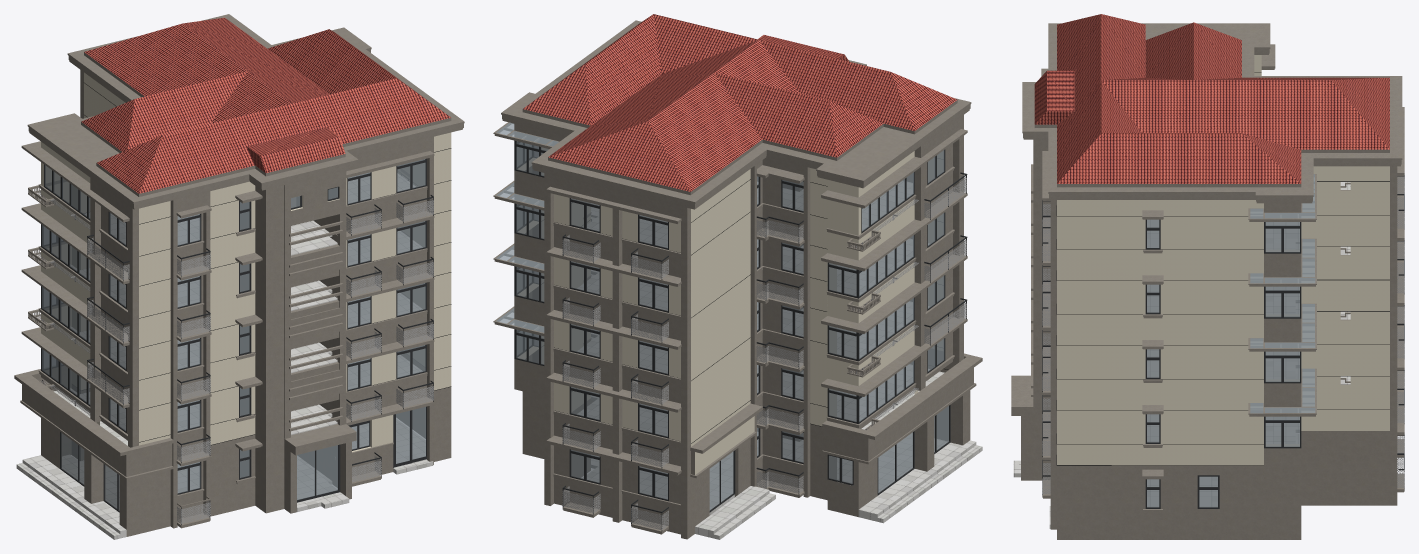
Rendered from gzl_naokeyiyuan.FBX.
The picture shows the model from 3 angles, left to right: view 1: azimuth 30°, elevation 25°; view 2: azimuth 150°, elevation 25°; view 3: azimuth 270°, elevation 25°; orthographic projection. The views are drawn at different scales.
Visible parts, largest first — view 1: gzl_naokeyiyuan, Group8_001, Group8_014, Group8_016, Group8_002, Group8_007, Group8_018, Group8_017, Line003, Line004, Line005, Line006 (+6 smaller); view 2: gzl_naokeyiyuan, Group8_001, Group8_014, Group8_016, Group8_002, Group8_007, Group8_018, Group8_017, Line003, Line004, Line006, Line005 (+7 smaller); view 3: Group8_014, gzl_naokeyiyuan, Group8_001, Group8_016, Group8_002, Group8_007, Group8_012, Group8_010, Group8_018, Line002, Group8_011, Line005 (+4 smaller).
Part boxes in pixels (box(x1,y1,x2,y2)): gzl_naokeyiyuan: box(14, 14, 464, 536); Group8_001: box(81, 17, 450, 193); Group8_014: box(41, 72, 451, 452); Group8_016: box(42, 159, 425, 510); Group8_002: box(21, 141, 434, 528); Group8_007: box(87, 198, 433, 523); Group8_018: box(41, 158, 426, 512); Group8_017: box(16, 455, 433, 539); Line003: box(62, 419, 426, 509); Line004: box(53, 355, 421, 445); Line005: box(70, 293, 421, 373); Line006: box(70, 231, 421, 311); gzl_naokeyiyuan: box(497, 20, 982, 539); Group8_001: box(523, 14, 957, 191); Group8_014: box(518, 148, 943, 474); Group8_016: box(516, 141, 948, 510); Group8_002: box(546, 129, 967, 534); Group8_007: box(562, 176, 966, 530); Group8_018: box(514, 140, 950, 512); Group8_017: box(695, 440, 982, 539); Line003: box(583, 432, 947, 515); Line004: box(577, 337, 944, 435); Line006: box(577, 217, 929, 310); Line005: box(577, 274, 929, 373); Group8_014: box(1057, 55, 1389, 465); gzl_naokeyiyuan: box(1011, 23, 1404, 539); Group8_001: box(1034, 14, 1389, 183); Group8_016: box(1147, 219, 1299, 507); Group8_002: box(1041, 44, 1404, 498); Group8_007: box(1042, 176, 1404, 494); Group8_012: box(1250, 174, 1315, 413); Group8_010: box(1248, 174, 1316, 416); Group8_018: box(1145, 219, 1301, 508); Line002: box(1056, 72, 1389, 465); Group8_011: box(1034, 124, 1389, 384); Line005: box(1147, 303, 1350, 378).
Bounding box in the file's own units: 17541 × 17415 × 15947.
